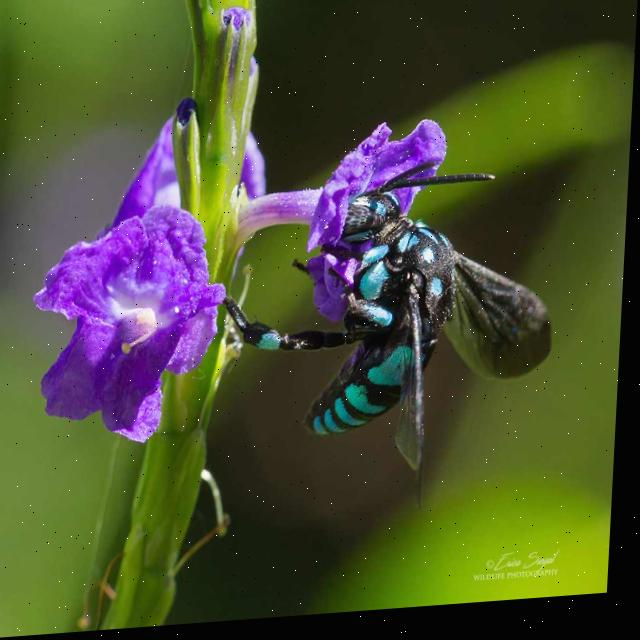Thyreus: (207, 149, 572, 517)
